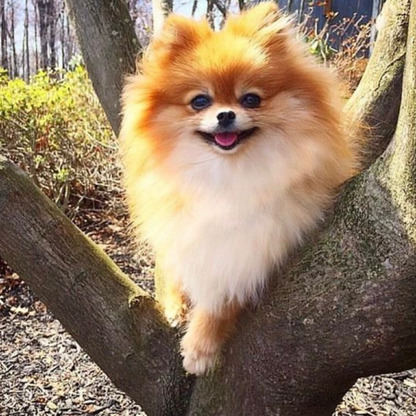Pomeranian: (122, 10, 342, 355)
